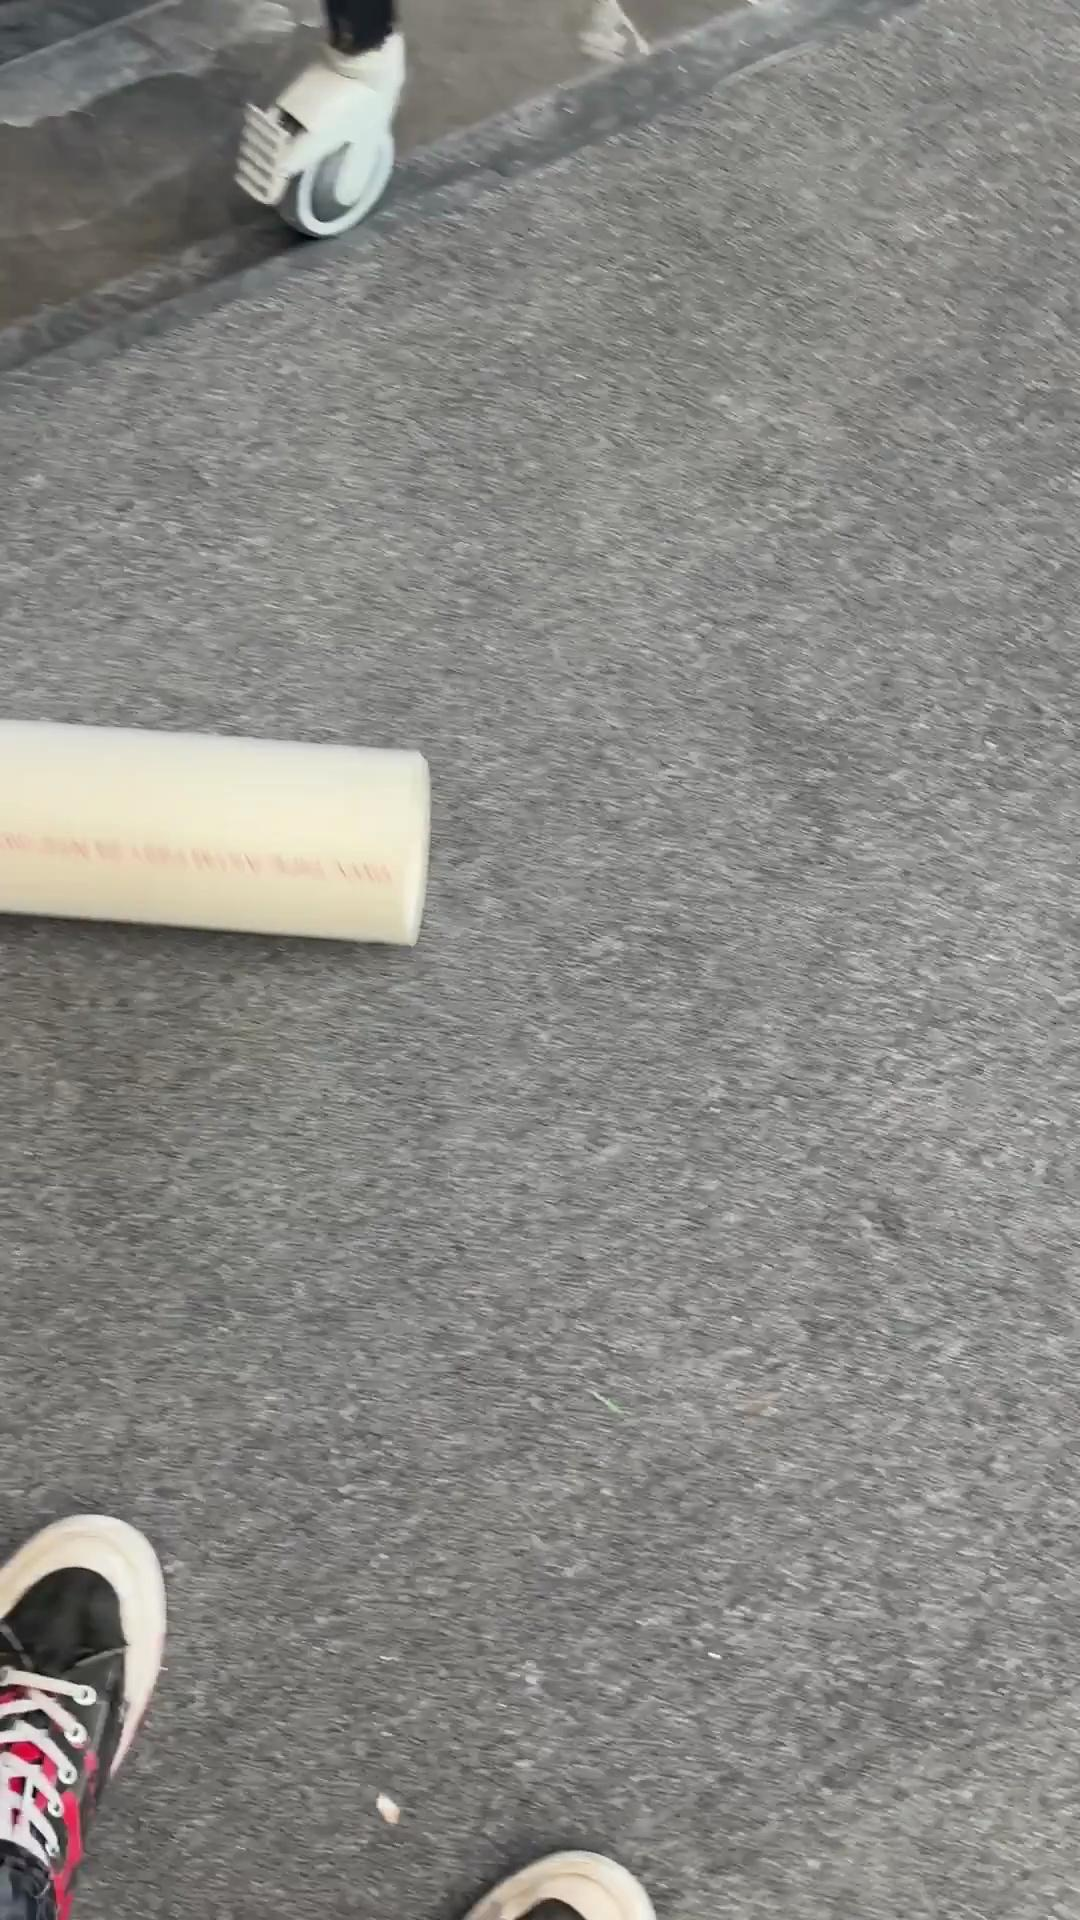CORAL: (1, 713, 433, 949), (229, 26, 406, 239)
